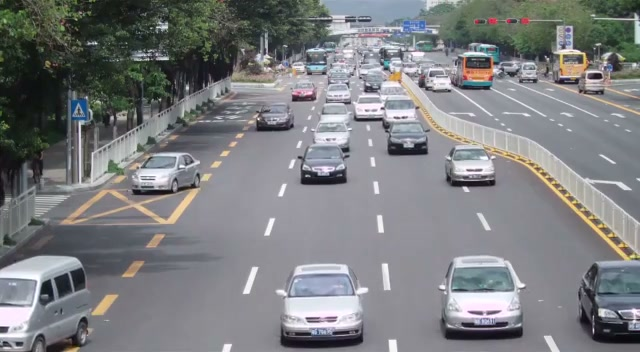bus: (450, 52, 495, 89)
car: (0, 253, 93, 352), (437, 255, 527, 340), (276, 264, 368, 346), (577, 260, 640, 341), (129, 152, 202, 194), (444, 144, 496, 187), (300, 144, 348, 185), (311, 120, 352, 155), (387, 121, 429, 155), (382, 96, 419, 133), (256, 104, 295, 131), (353, 93, 385, 121), (317, 102, 354, 125), (577, 70, 605, 95), (291, 79, 317, 102), (325, 82, 352, 103), (517, 62, 538, 83)
truck: (552, 50, 589, 84), (578, 70, 606, 95)
